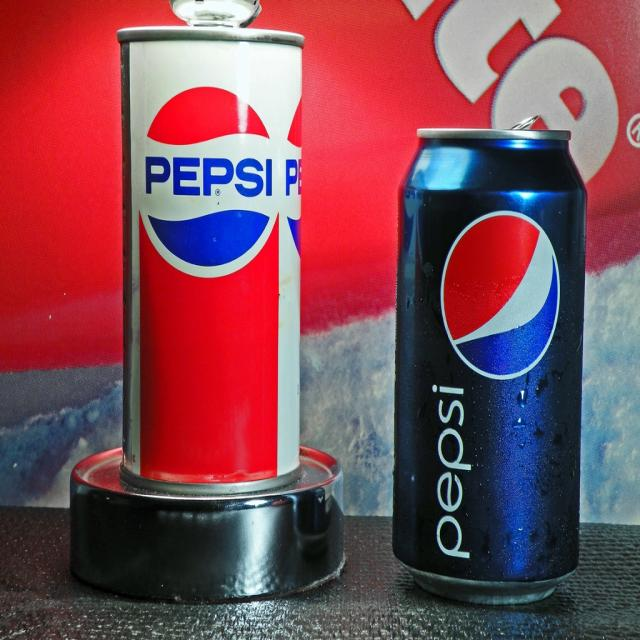pepsi: (137, 83, 281, 273), (442, 212, 561, 378)
